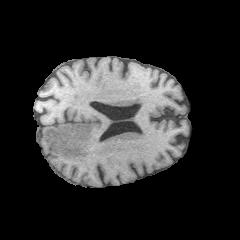glioma: (43, 124, 92, 158)
